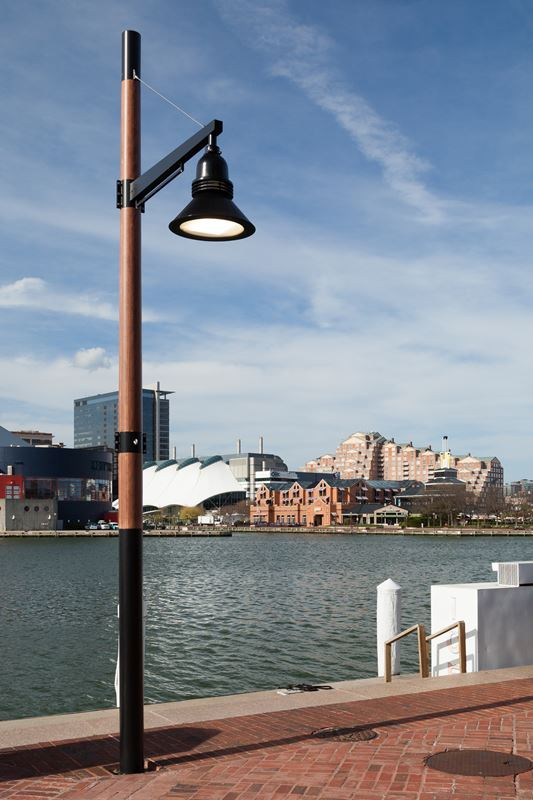light_pole: (110, 24, 161, 789)
